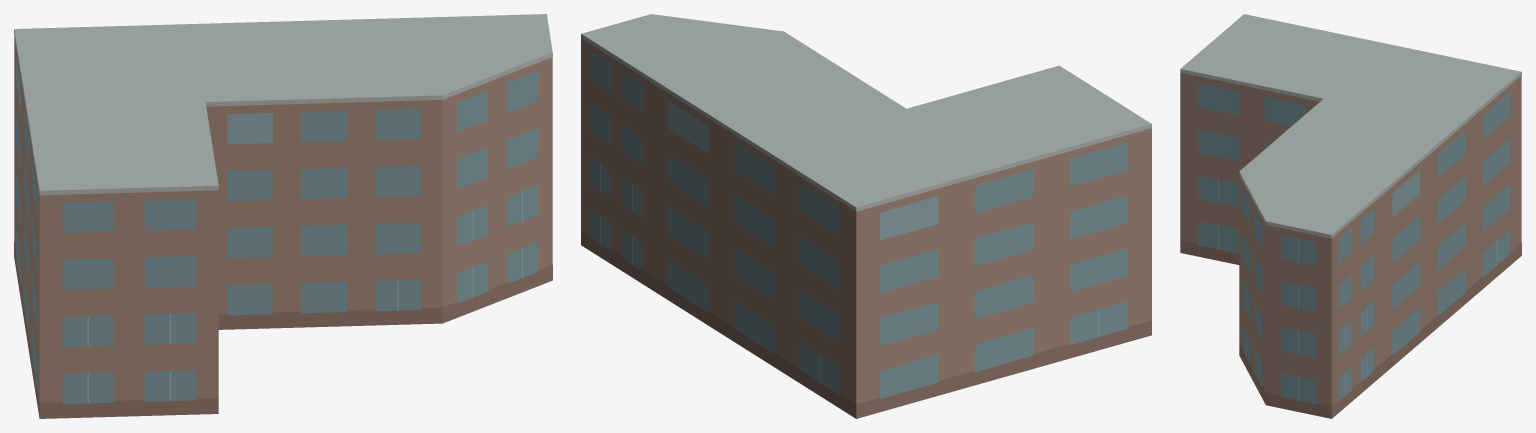
The model's file is residential-bbda7af5-313d-42fc-bd7e-3f892faa1d59.glb.
3 renders of one model, left to right at view 1: azimuth 30°, elevation 25°; view 2: azimuth 150°, elevation 25°; view 3: azimuth 270°, elevation 25°, orthographic. The views are drawn at different scales.
Parts seen in each view (by area): view 1: residential-bbda7af5-313d-42fc-bd7e-3f892faa1d59.tmp; view 2: residential-bbda7af5-313d-42fc-bd7e-3f892faa1d59.tmp; view 3: residential-bbda7af5-313d-42fc-bd7e-3f892faa1d59.tmp.
Part boxes in pixels (x1=…): residential-bbda7af5-313d-42fc-bd7e-3f892faa1d59.tmp: x1=14, y1=14, x2=552, y2=418; residential-bbda7af5-313d-42fc-bd7e-3f892faa1d59.tmp: x1=581, y1=14, x2=1151, y2=418; residential-bbda7af5-313d-42fc-bd7e-3f892faa1d59.tmp: x1=1180, y1=14, x2=1521, y2=418.
Size of the model in its own units: 31.44 by 12.2 by 20.54.
